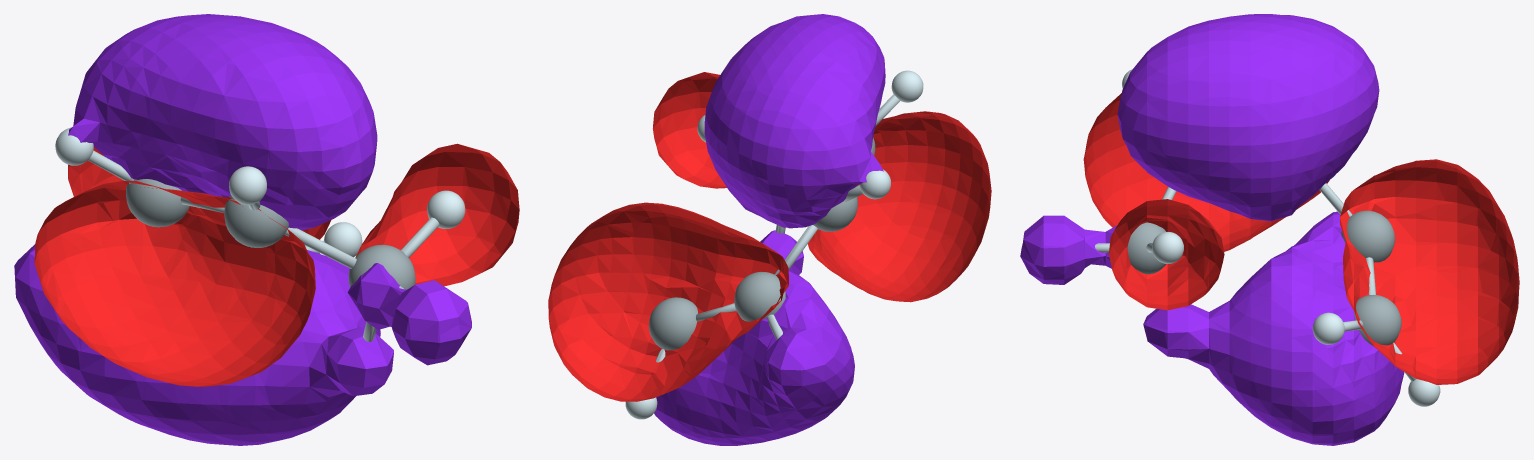
3 renders of one model, left to right at view 1: azimuth 30°, elevation 25°; view 2: azimuth 150°, elevation 25°; view 3: azimuth 270°, elevation 25°, orthographic. The views are drawn at different scales.
Visible parts, largest first — view 1: Renderer Node; view 2: Renderer Node; view 3: Renderer Node.
Boxes of the visible parts, <box> form: Renderer Node: <box>14,14,519,445</box>; Renderer Node: <box>548,14,991,445</box>; Renderer Node: <box>1020,14,1519,445</box>.
Size of the model in its own units: 4.95 by 5.25 by 6.19.
